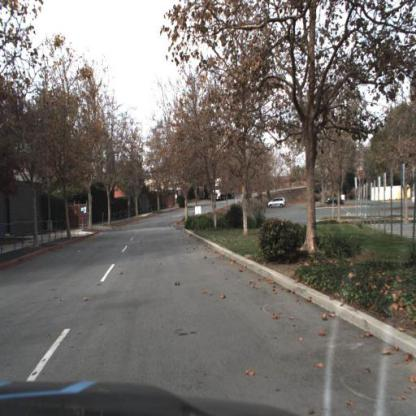car: (325, 196, 347, 211), (326, 195, 344, 209), (267, 196, 286, 208)
truck: (213, 175, 236, 203)
